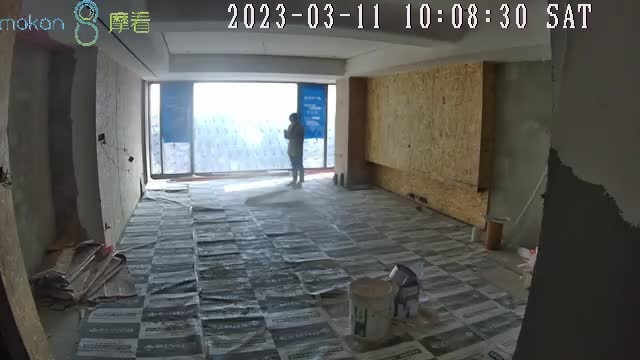people: (283, 113, 307, 187)
window: (145, 81, 334, 172)
